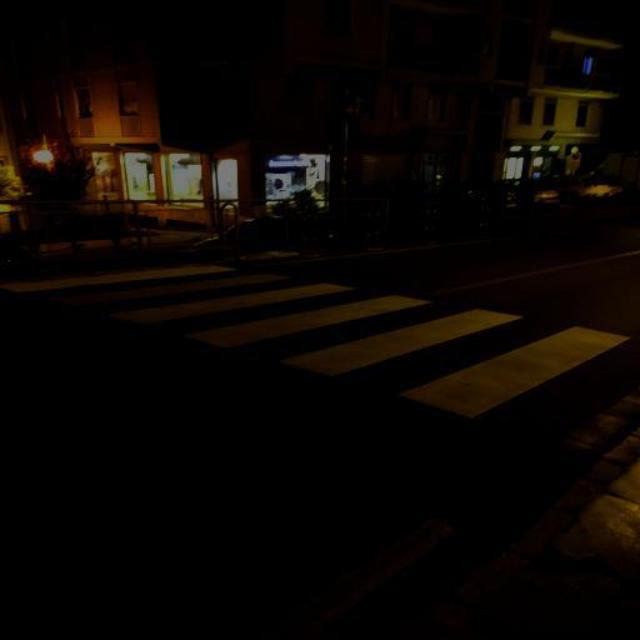sidewalk: (53, 273, 629, 419)
